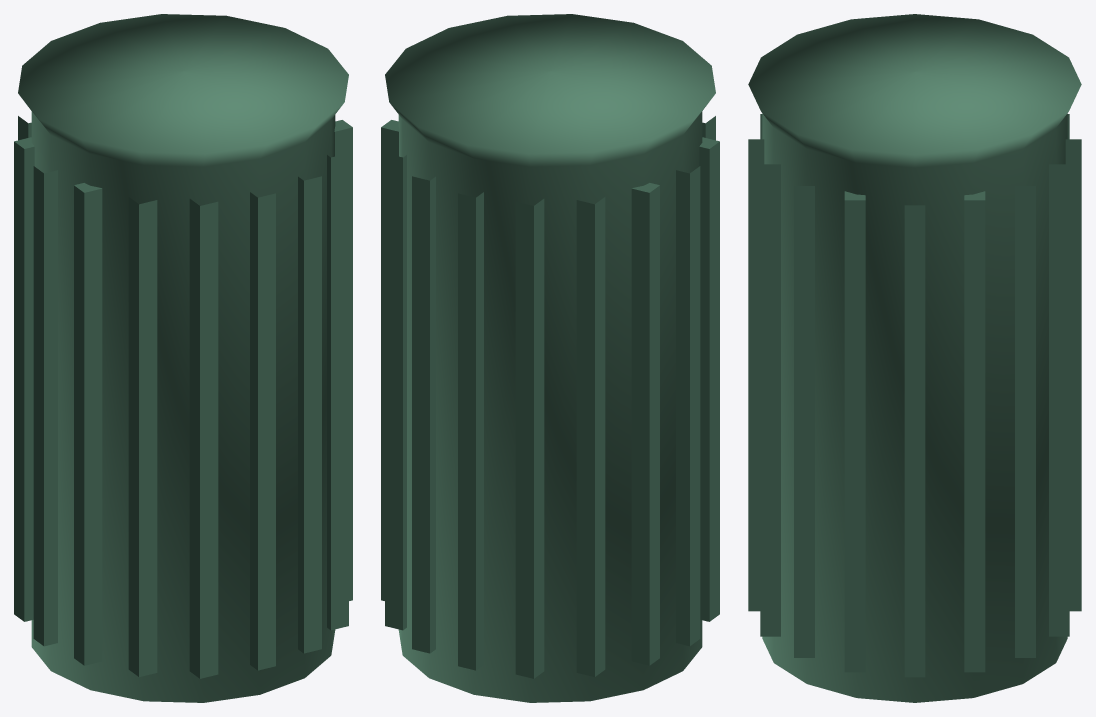
The model's file is park_bin.glb.
3 views of the same model, side by side, from view 1: azimuth 30°, elevation 25°; view 2: azimuth 150°, elevation 25°; view 3: azimuth 270°, elevation 25° (orthographic).
Parts seen in each view (by area): view 1: park_bin; view 2: park_bin; view 3: park_bin.
Boxes of the visible parts, x1,y1,x2,y2 form: park_bin: [14, 14, 352, 702]; park_bin: [381, 14, 719, 702]; park_bin: [748, 14, 1081, 702].
Bounding box in the file's own units: 0.48 × 0.9 × 0.48.
